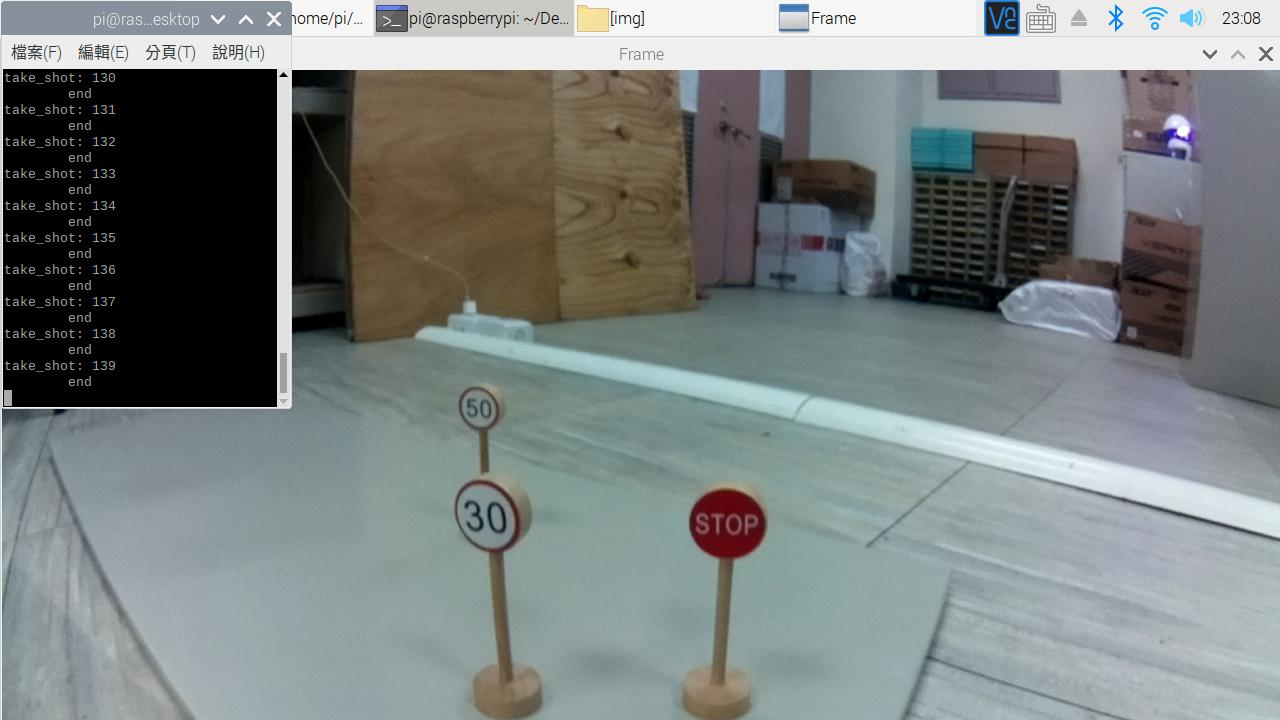Speed30: (439, 470, 542, 559)
Speed50: (447, 362, 517, 453)
Stop: (682, 481, 781, 575)
